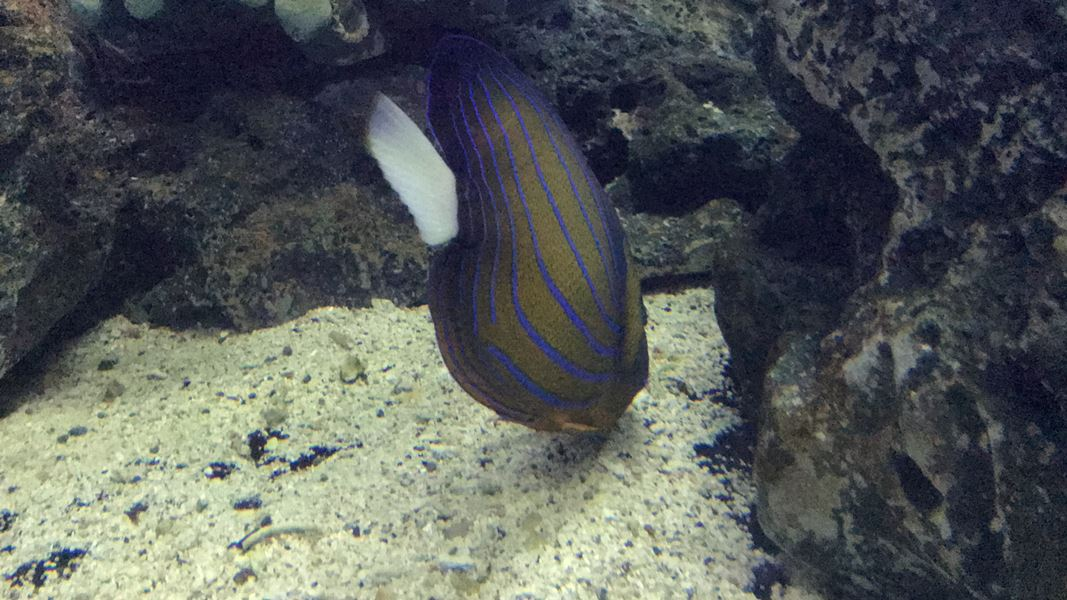Blue ring angelfish: (338, 11, 680, 468)
